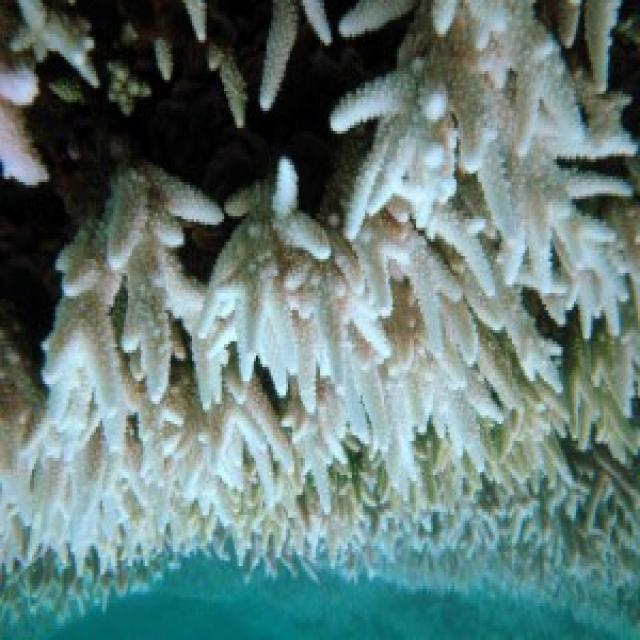Bleached: (1, 351, 639, 639), (332, 1, 640, 350), (52, 158, 356, 352), (1, 4, 99, 192)
Healthy: (508, 395, 634, 483), (553, 483, 638, 571)
